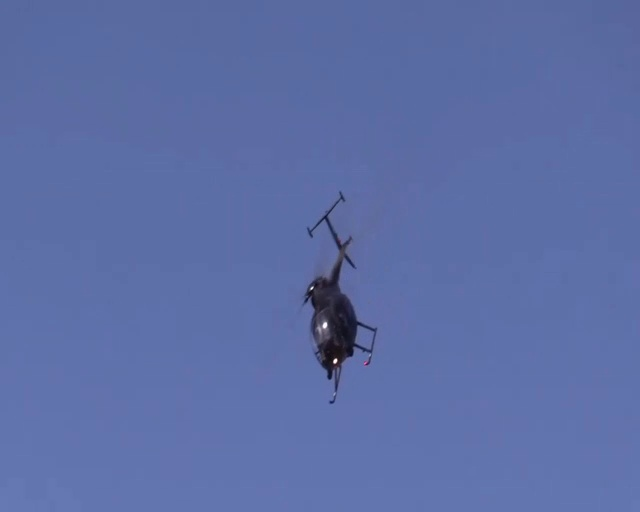HELICOPTER: (283, 191, 382, 405)
